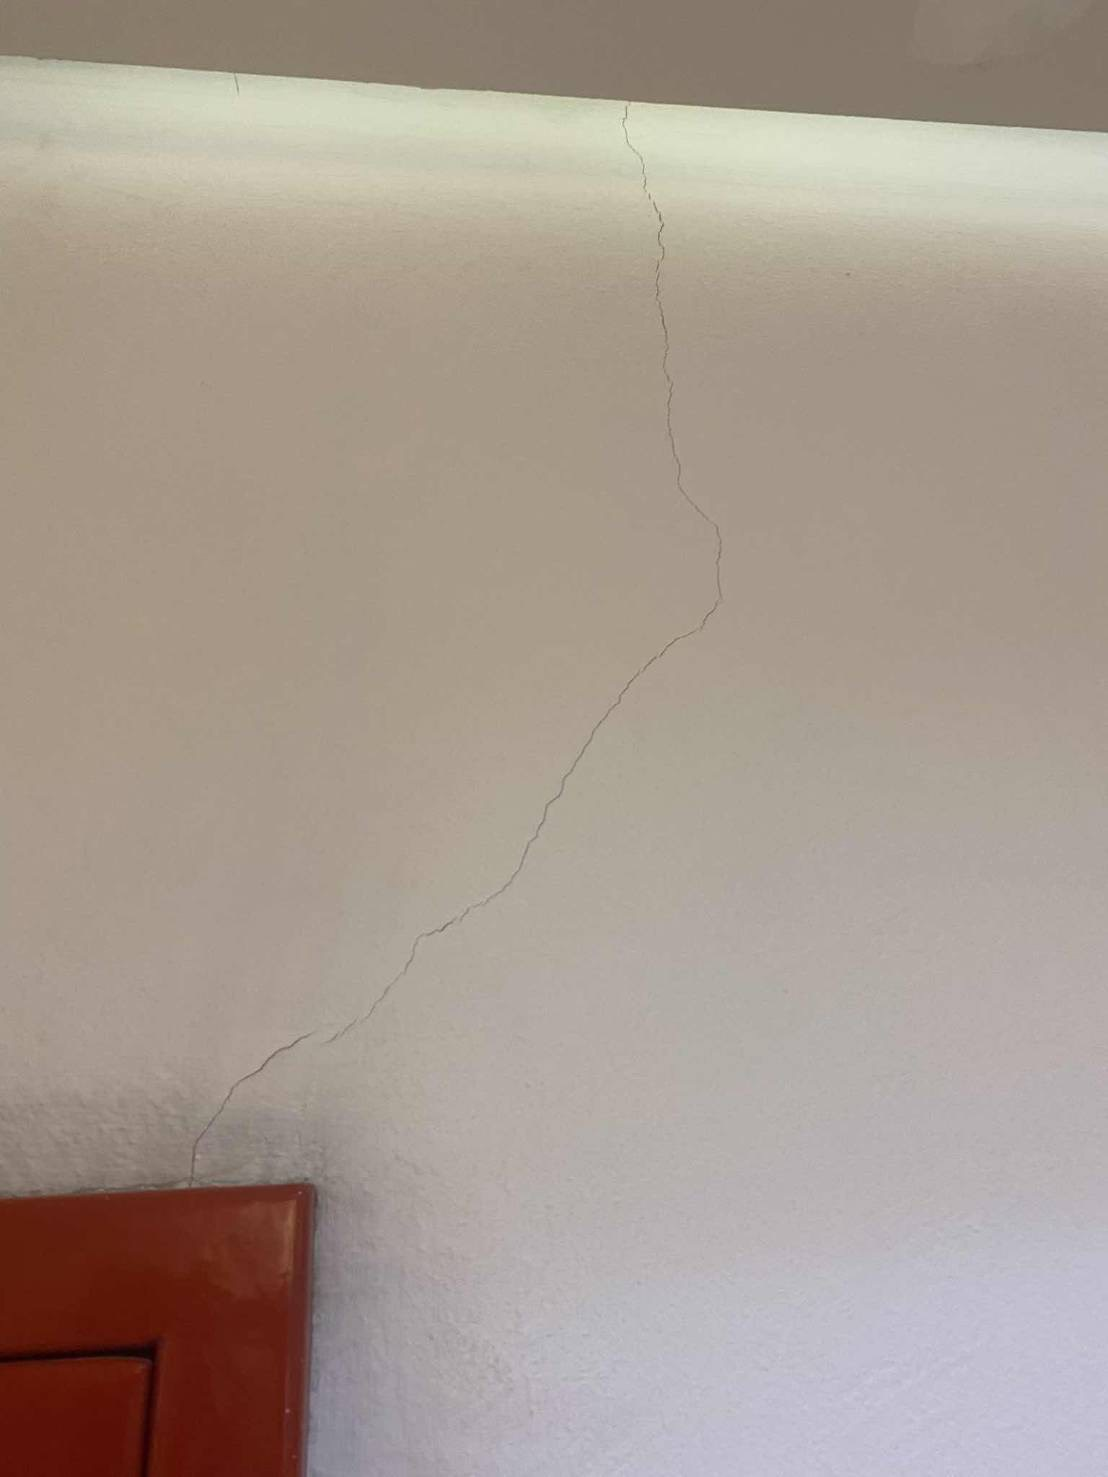Low: (179, 98, 736, 1179)
